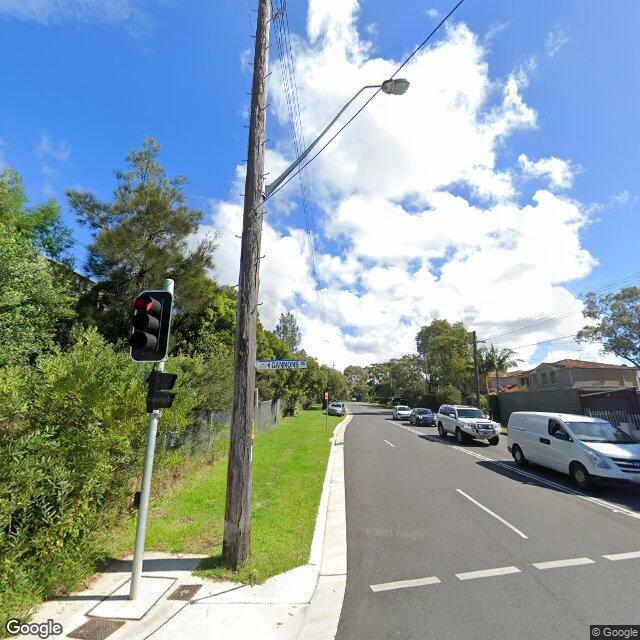steel-pole: (128, 278, 176, 601)
streetlight: (263, 79, 411, 201)
timber-pole: (222, 0, 272, 570), (473, 330, 480, 409)
traffic-light: (128, 289, 172, 362), (146, 368, 178, 415)
